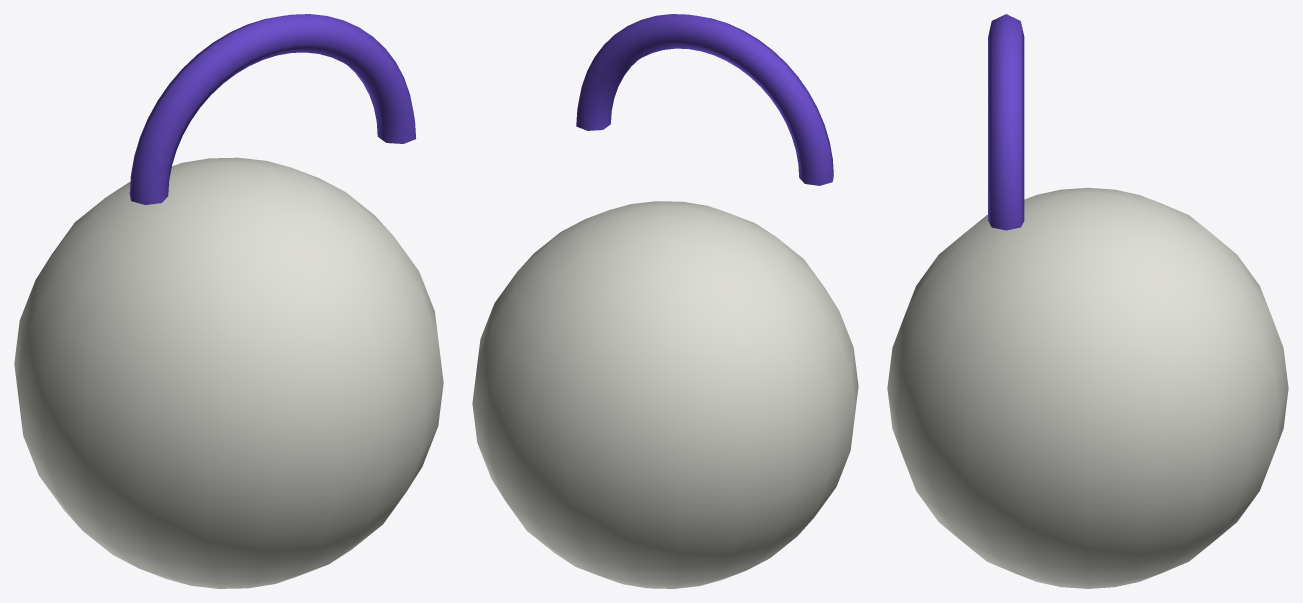
3 views of the same model, side by side, from view 1: azimuth 30°, elevation 25°; view 2: azimuth 150°, elevation 25°; view 3: azimuth 270°, elevation 25° (orthographic). The views are drawn at different scales.
Parts seen in each view (by area): view 1: back.ball-net.ball, back.ball-net.strap; view 2: back.ball-net.ball, back.ball-net.strap; view 3: back.ball-net.ball, back.ball-net.strap.
Part boxes in pixels (box(x1,y1,x2,y2)): back.ball-net.ball: box(14, 157, 443, 588); back.ball-net.strap: box(129, 14, 416, 204); back.ball-net.ball: box(472, 201, 858, 588); back.ball-net.strap: box(576, 14, 833, 185); back.ball-net.ball: box(887, 187, 1288, 588); back.ball-net.strap: box(988, 14, 1024, 230).
Size of the model in its own units: 0.54 by 0.805 by 0.54.
